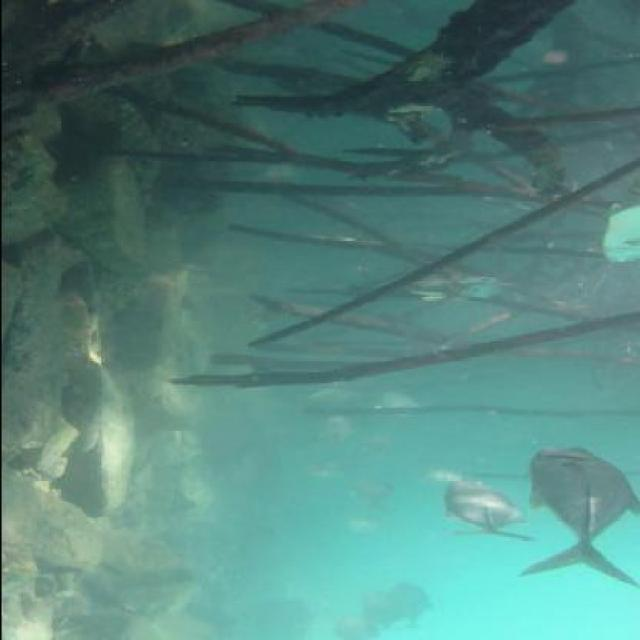Caranx_sexfasciatus_juvenile: (507, 445, 640, 583), (436, 472, 535, 545), (587, 192, 640, 273), (386, 578, 432, 638), (389, 276, 471, 304), (452, 272, 519, 306), (298, 376, 365, 410), (344, 473, 402, 512), (288, 454, 367, 480), (362, 590, 407, 630), (322, 612, 386, 640), (365, 393, 420, 424), (348, 429, 418, 453), (305, 414, 357, 444), (337, 514, 392, 538)
